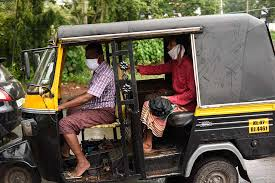mask: (85, 45, 101, 70), (167, 39, 184, 59)
